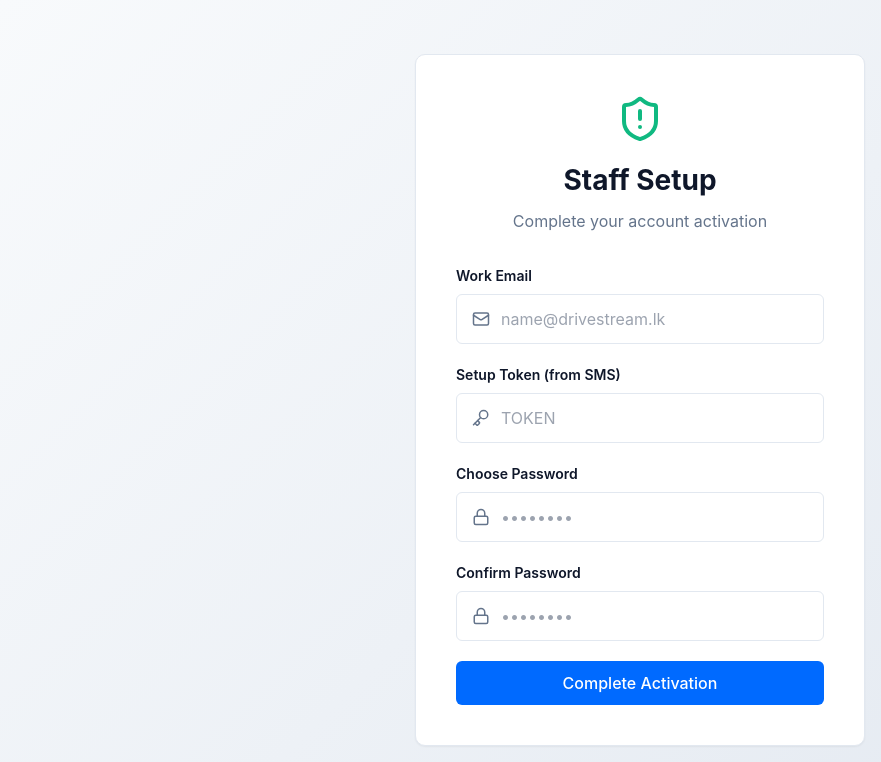
SetupStaff › shows loading state while submitting
Type "staff@drivestream.lk" into the field with placeholder "name@drivestream.lk" at (640, 319), box 456,294 -> 824,344
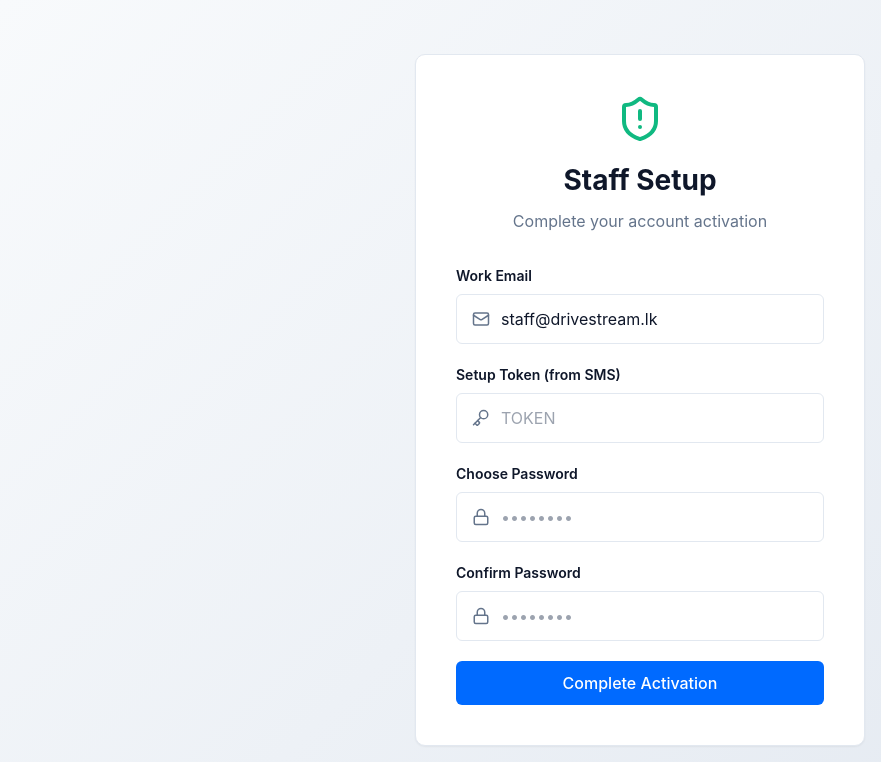
Type "SETUP123" into the field with placeholder "TOKEN" at (640, 418), box 456,393 -> 824,443
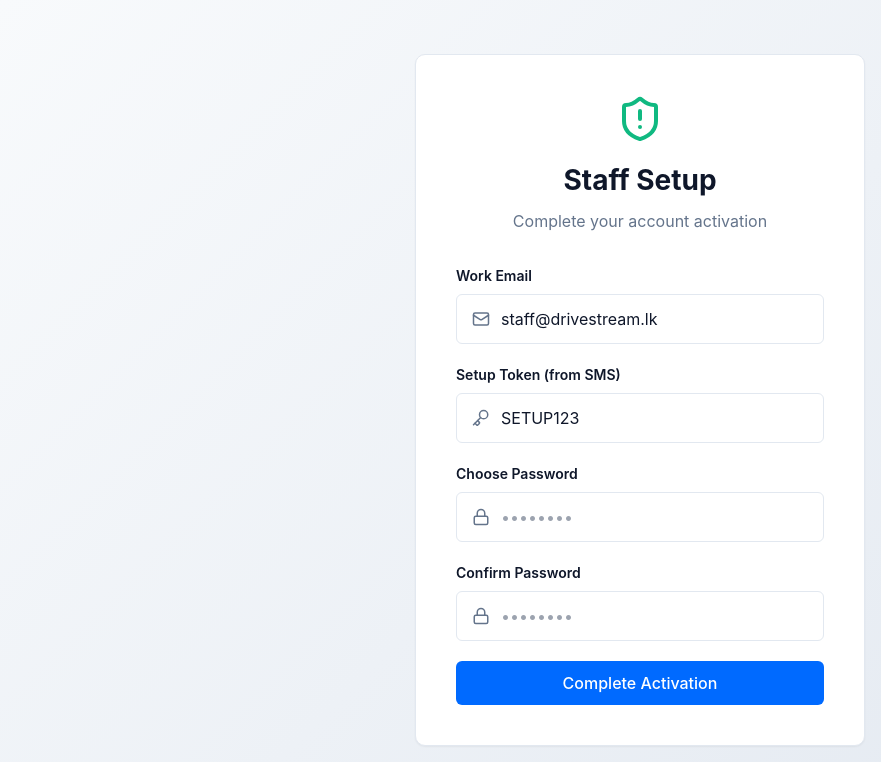
Type "newpass123" into the password field with placeholder "••••••••" below "Choose Password" at (640, 517), box 456,492 -> 824,542
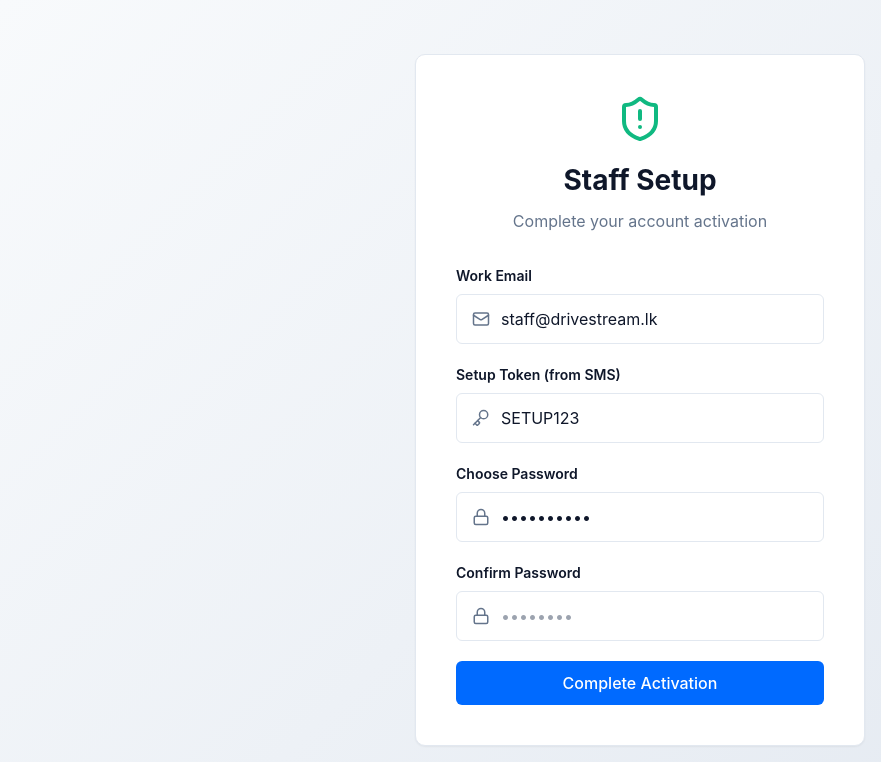
Type "newpass123" into the password field with placeholder "••••••••" at (640, 616), box 456,591 -> 824,641
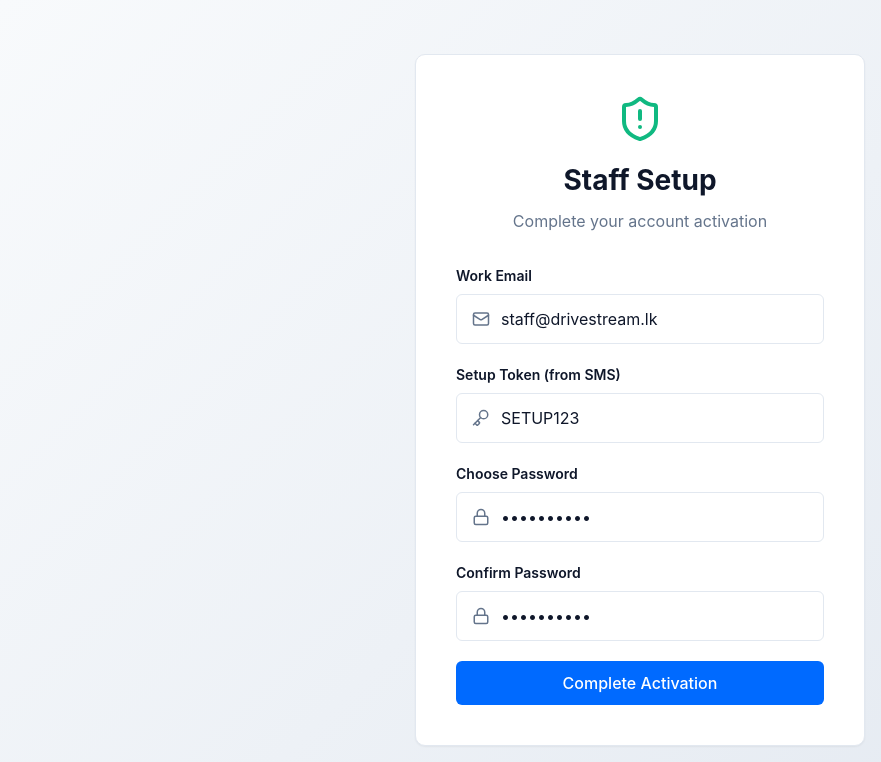
Click the button "Complete Activation" at (640, 683), box 456,661 -> 824,705
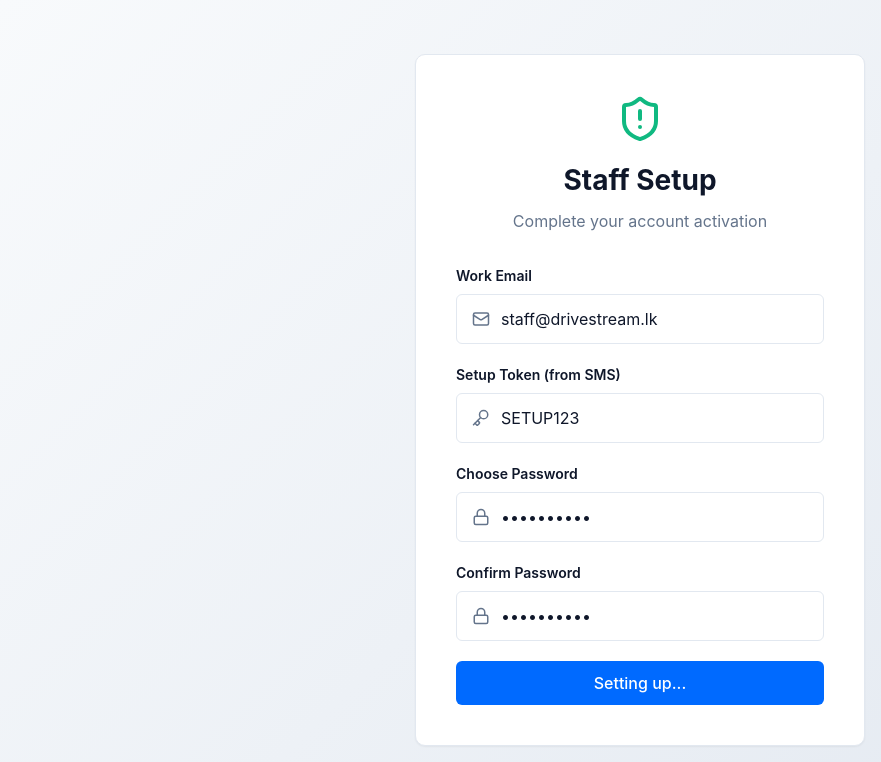
Result: the button "Setting up..." is disabled at 456,661 -> 824,705
